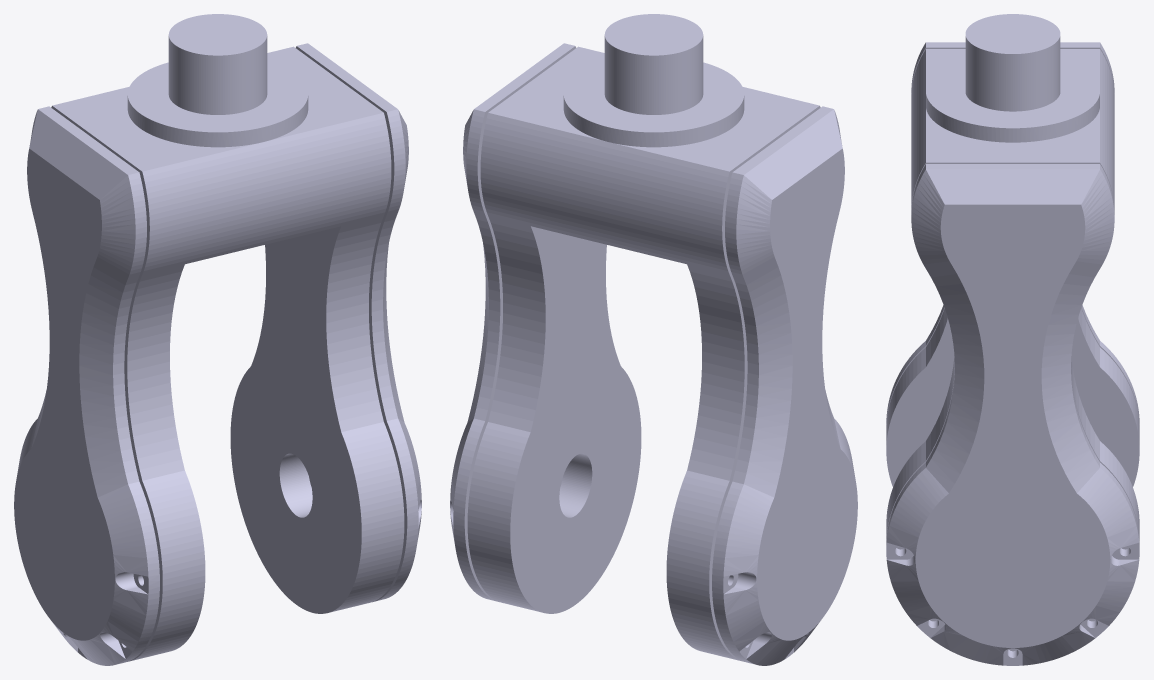
3 views of the same model, side by side, from view 1: azimuth 30°, elevation 25°; view 2: azimuth 150°, elevation 25°; view 3: azimuth 270°, elevation 25° (orthographic). The views are drawn at different scales.
Parts seen in each view (by area): view 1: node0; view 2: node0; view 3: node0.
Boxes of the visible parts, box(x1,y1,x2,y2) form: node0: box(14, 14, 421, 665); node0: box(450, 14, 857, 665); node0: box(886, 14, 1139, 665).
Size of the model in its own units: 0.108 by 0.08 by 0.198.
